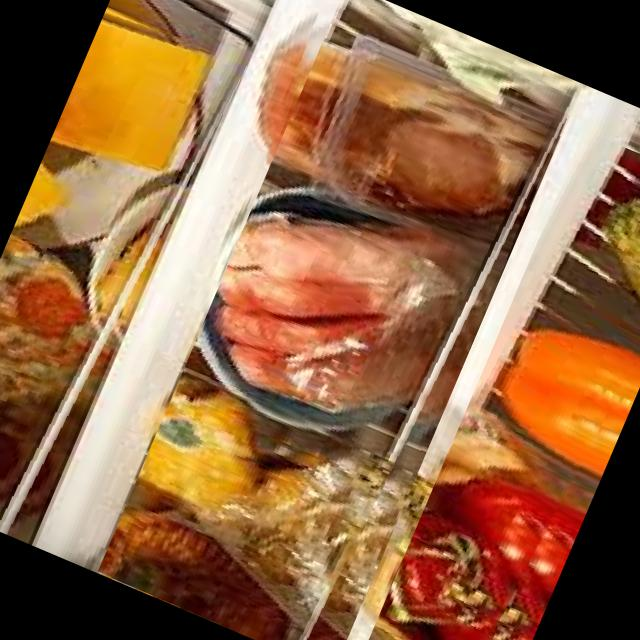Organic: (81, 0, 578, 640), (95, 0, 580, 640), (349, 129, 640, 640), (0, 0, 249, 549)
